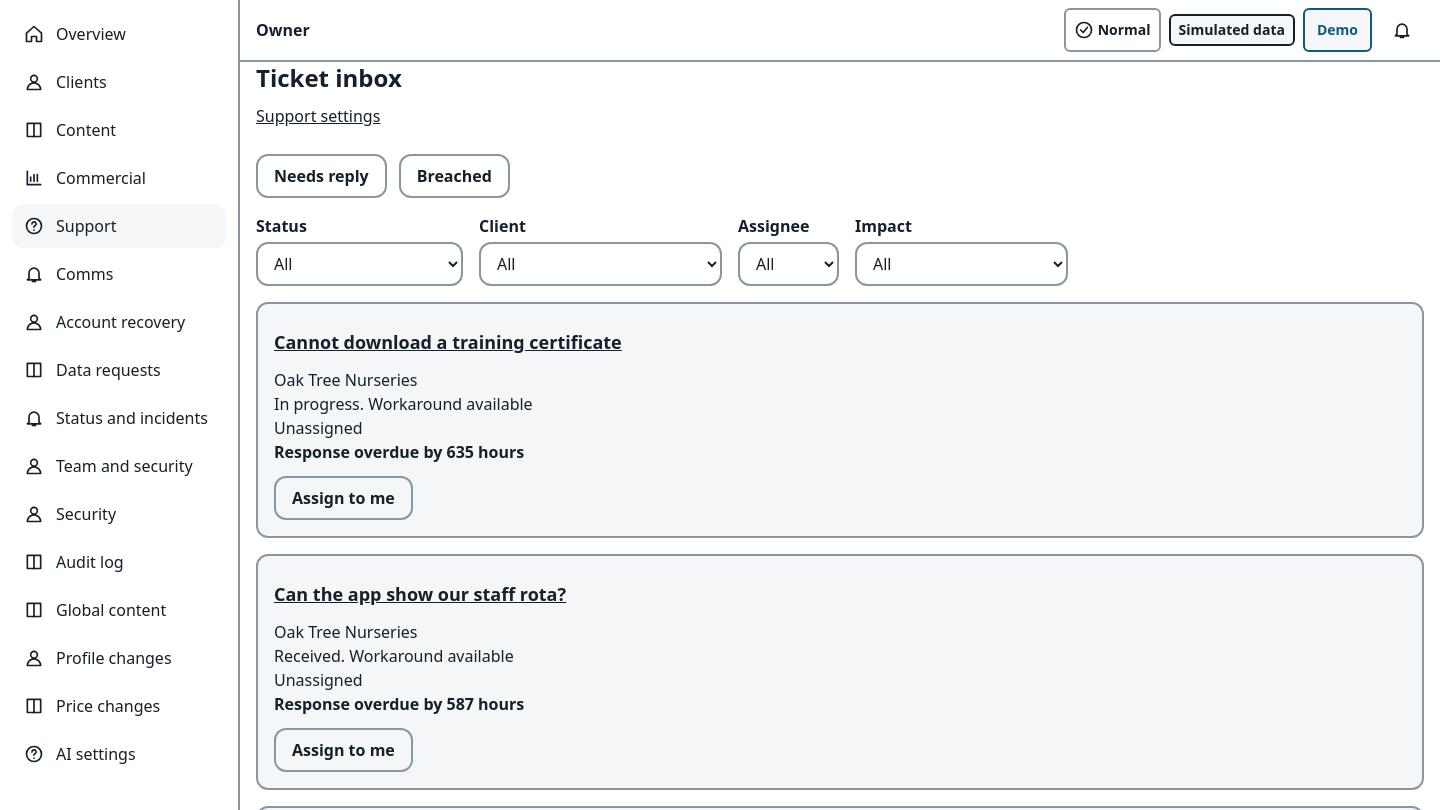
P11 Ticket inbox › assigns a ticket to the acting provider with "Assign to me" and then shows their name on that row
Expected: the heading "Ticket inbox" is shown, [256, 62, 402, 94]
Expected: the 1st list item with test id "ticket-row" is shown, [256, 302, 1424, 538]
Click the button "Assign to me" below "Response overdue by 635 hours". click: x=343, y=498
box: [274, 476, 413, 520]
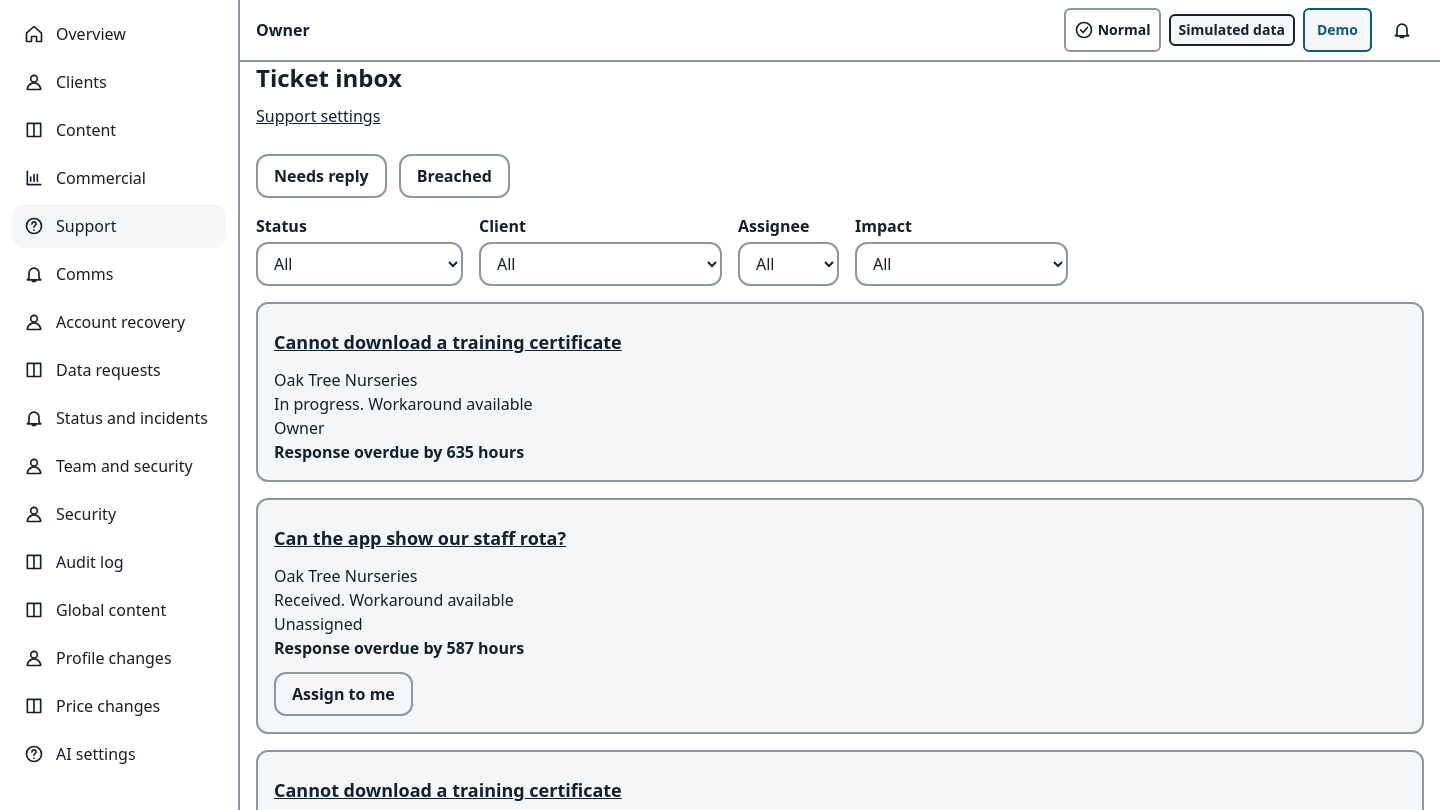
Expected: the list item with test id "ticket-row" shows "Owner", [274, 417, 325, 439]
Expected: the element with test id "ticket-row" no longer shows "Unassigned"
